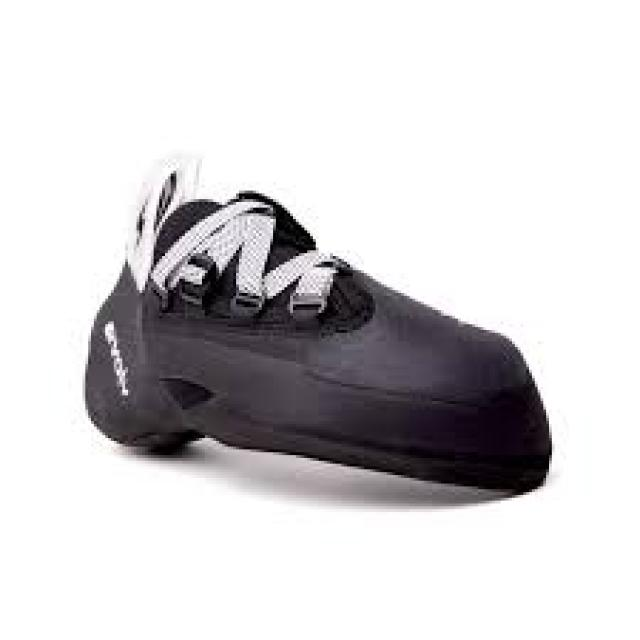climbing-shoes: (85, 156, 554, 496)
